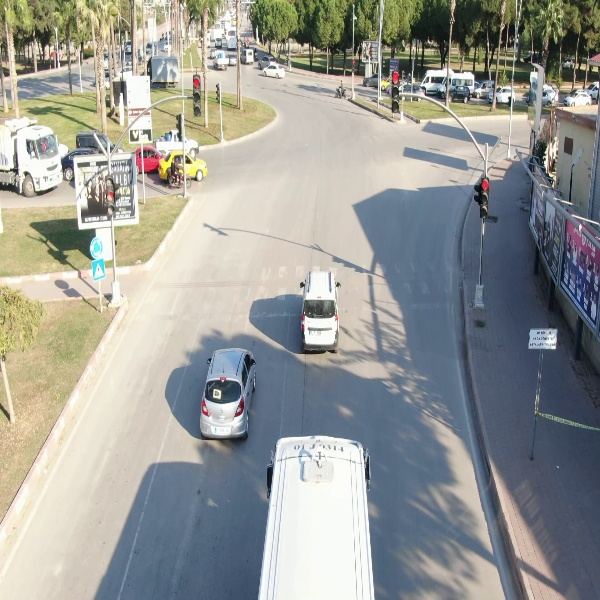car: (196, 346, 259, 442), (299, 269, 341, 357), (487, 84, 518, 106), (564, 90, 594, 107), (444, 85, 472, 103), (260, 63, 288, 80), (241, 47, 255, 67), (226, 51, 238, 68)
